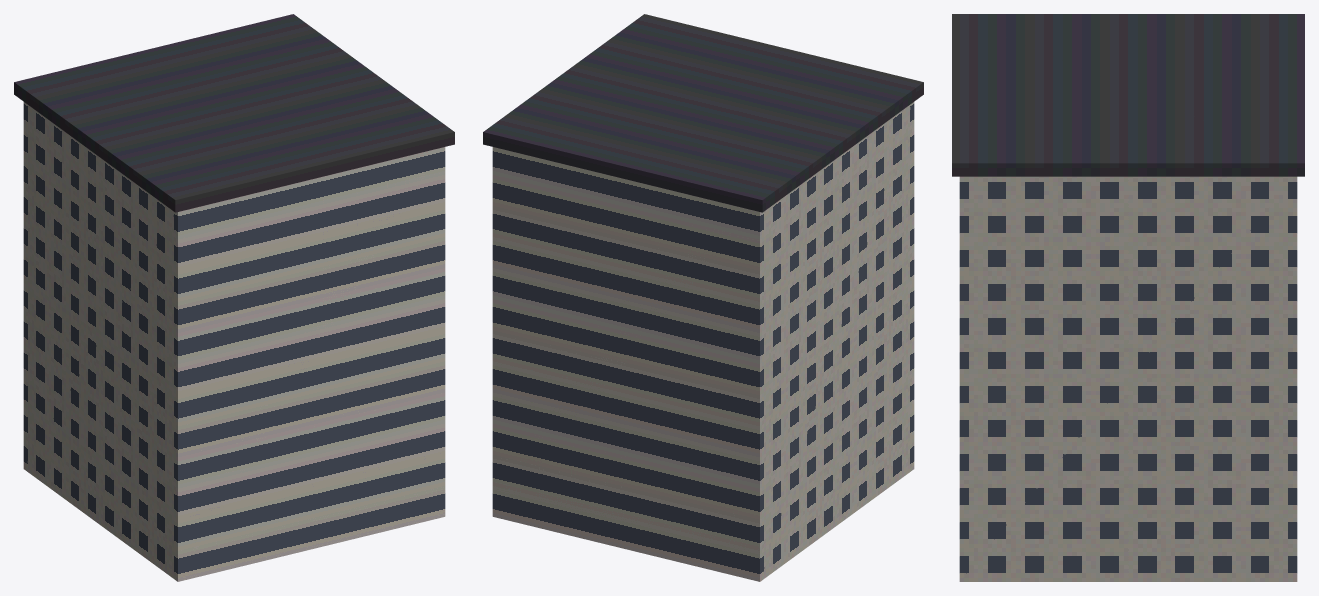
The model's file is edificio.glb.
The picture shows the model from 3 angles, left to right: view 1: azimuth 30°, elevation 25°; view 2: azimuth 150°, elevation 25°; view 3: azimuth 270°, elevation 25°; orthographic projection. The views are drawn at different scales.
Parts seen in each view (by area): view 1: edificio; view 2: edificio; view 3: edificio.
Part boxes in pixels (box(x1,y1,x2,y2)): edificio: box(14, 14, 454, 581); edificio: box(483, 14, 923, 581); edificio: box(952, 14, 1304, 581).
Size of the model in its own units: 9.4 by 12.4 by 9.4.
2 materials, 2 textured.
